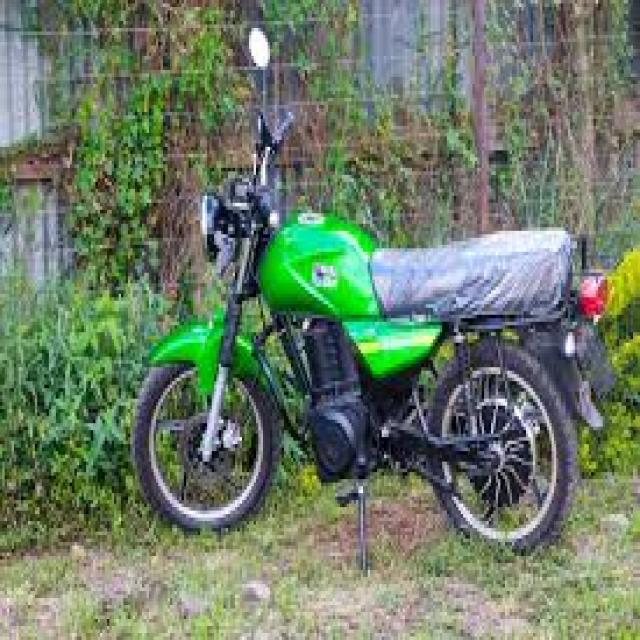bodaboda: (101, 13, 625, 604)
